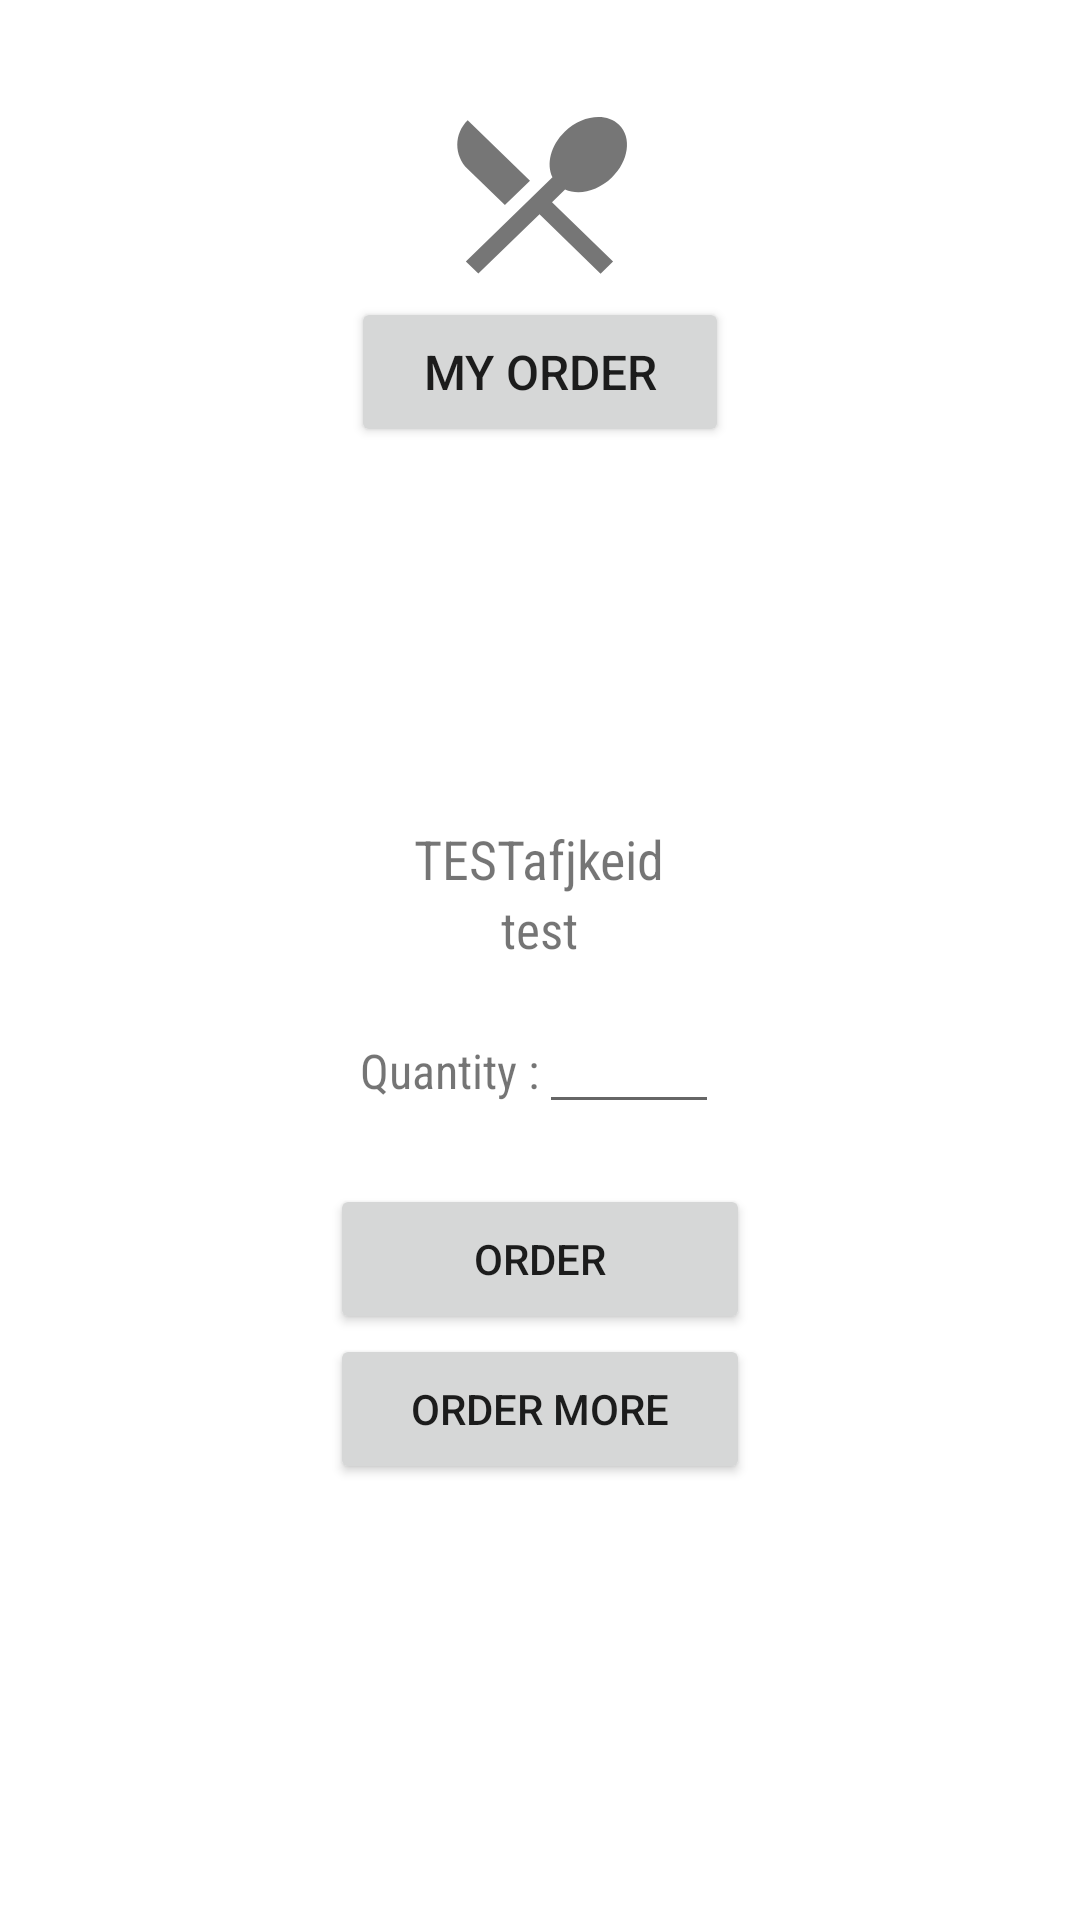

Icon click points for this 1080×1920 phone screenshot, format (x,y):
local dining: (542,195)
